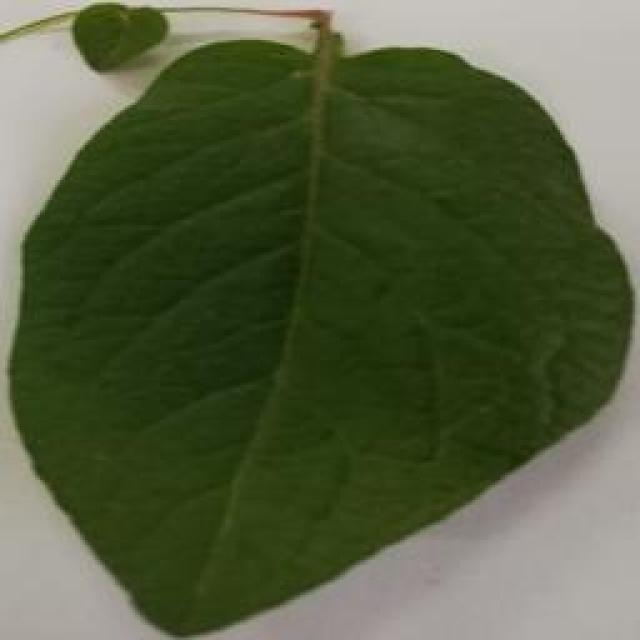Potato_Healthy: (10, 31, 625, 638)
